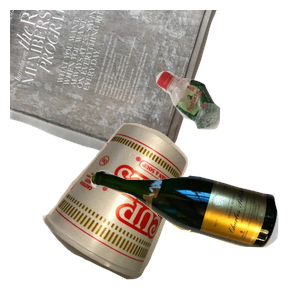glass: (88, 167, 300, 300)
paper: (10, 10, 222, 176)
plastic: (153, 68, 300, 190)
trash: (40, 121, 221, 300)
